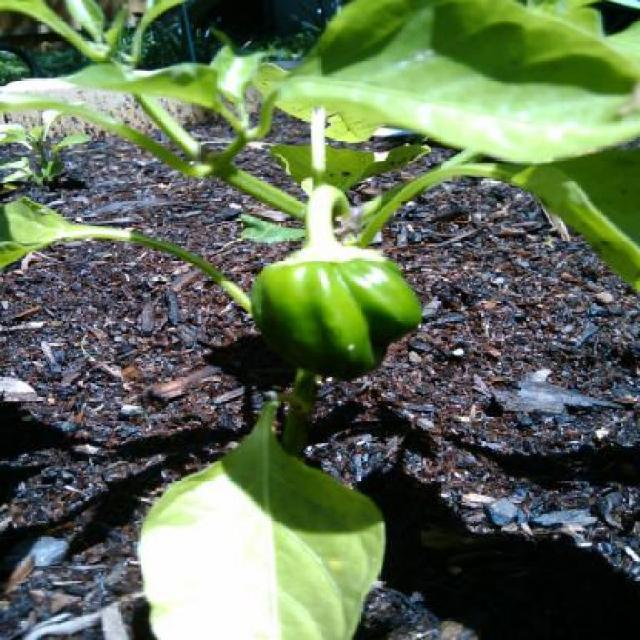Bell pepper: (236, 220, 430, 372)
